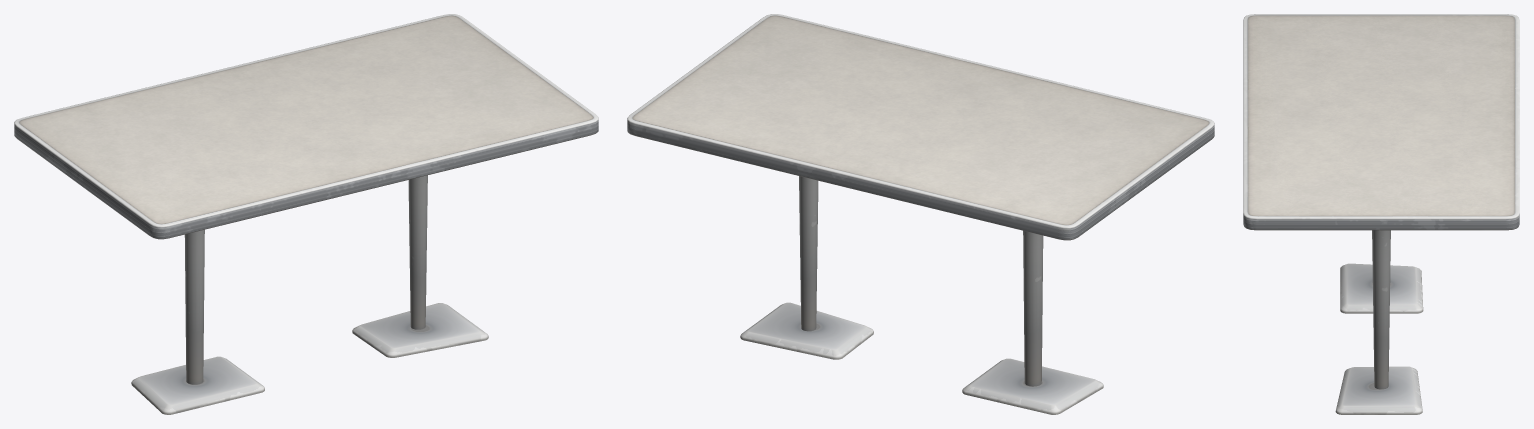
Rendered from CafeTable01_1.FBX.
The picture shows the model from 3 angles, left to right: view 1: azimuth 30°, elevation 25°; view 2: azimuth 150°, elevation 25°; view 3: azimuth 270°, elevation 25°; orthographic projection. The views are drawn at different scales.
Visible parts, largest first — view 1: CafeTable01_1; view 2: CafeTable01_1; view 3: CafeTable01_1.
Part boxes in pixels (x1,y1,x2,y2): CafeTable01_1: [14, 14, 598, 414]; CafeTable01_1: [627, 14, 1214, 414]; CafeTable01_1: [1243, 14, 1519, 414].
Size of what is drawn, in the model's own units: 1.75 by 0.9 by 1.
